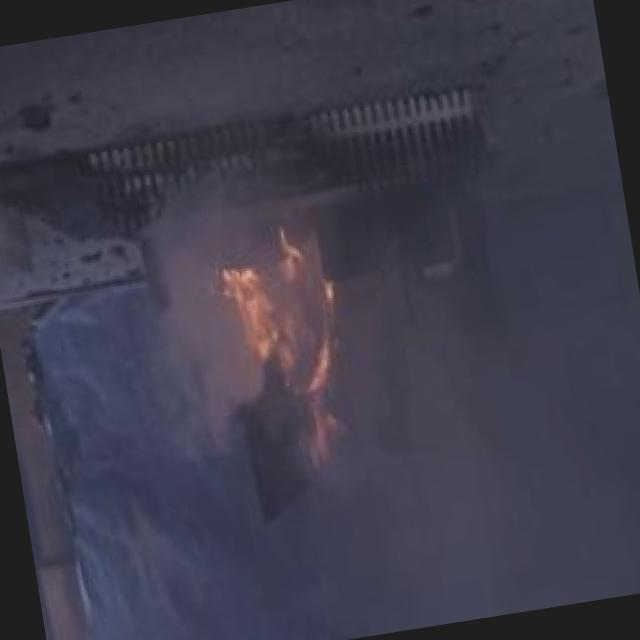fire: (206, 202, 376, 439)
